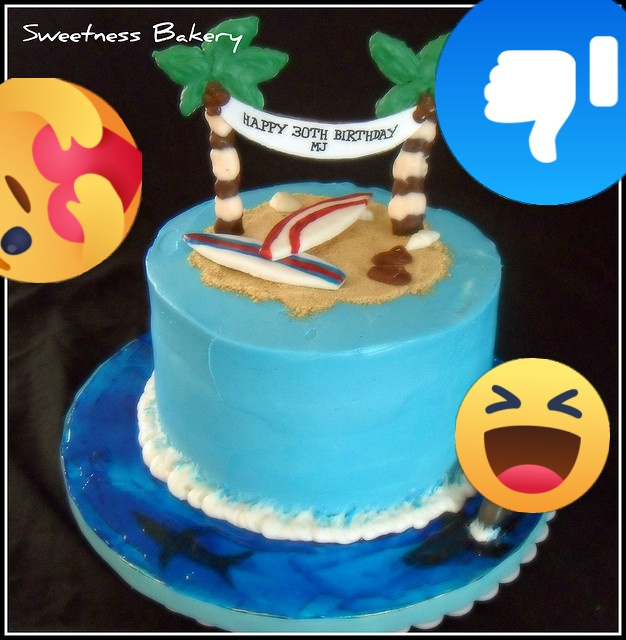care: (0, 78, 142, 283)
haha: (455, 358, 610, 513)
like: (435, 0, 626, 205)
